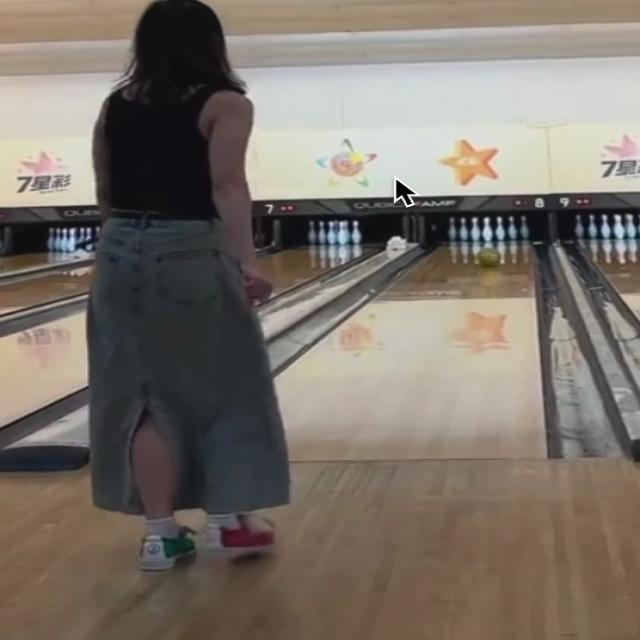alley: (278, 242, 543, 461)
balls: (478, 248, 499, 267)
bottle: (448, 215, 528, 246)
